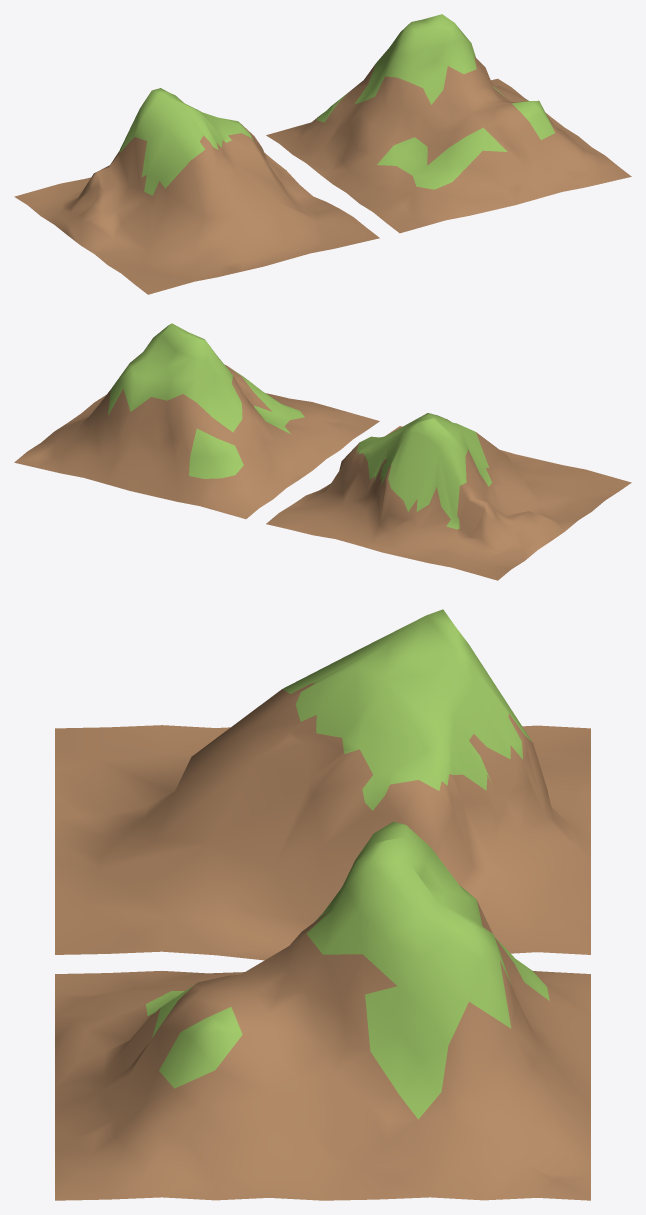
Rendered from Mountain 1.fbx.
3 views of the same model, one above another, from view 1: azimuth 30°, elevation 25°; view 2: azimuth 150°, elevation 25°; view 3: azimuth 270°, elevation 25° (orthographic). The views are drawn at different scales.
Visible parts, largest first — view 1: Mountain3, Mountain; view 2: Mountain3, Mountain; view 3: Mountain3, Mountain.
Boxes of the visible parts, x1,y1,x2,y2 form: Mountain3: (266, 14, 631, 233); Mountain: (14, 88, 379, 294); Mountain3: (14, 323, 379, 518); Mountain: (266, 413, 631, 580); Mountain3: (55, 821, 590, 1200); Mountain: (55, 609, 590, 960).
Bounding box in the file's own units: 125 × 33.59 × 60.
